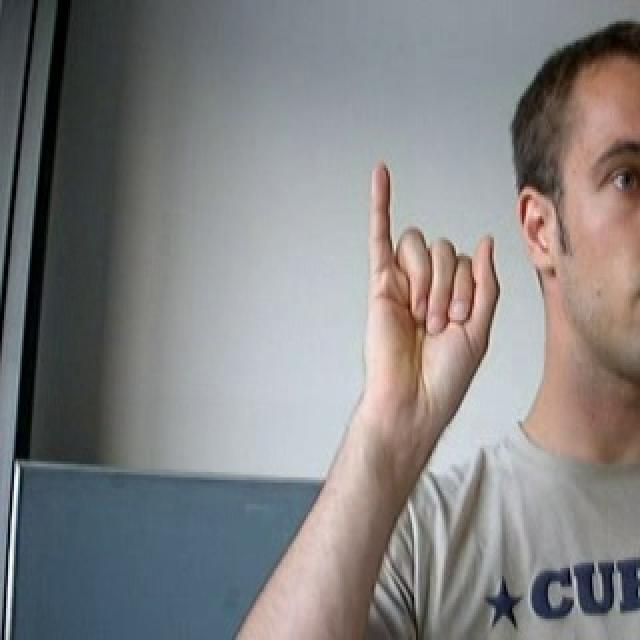I: (326, 143, 535, 465)
